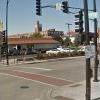Traffic light: (34, 0, 82, 25)
